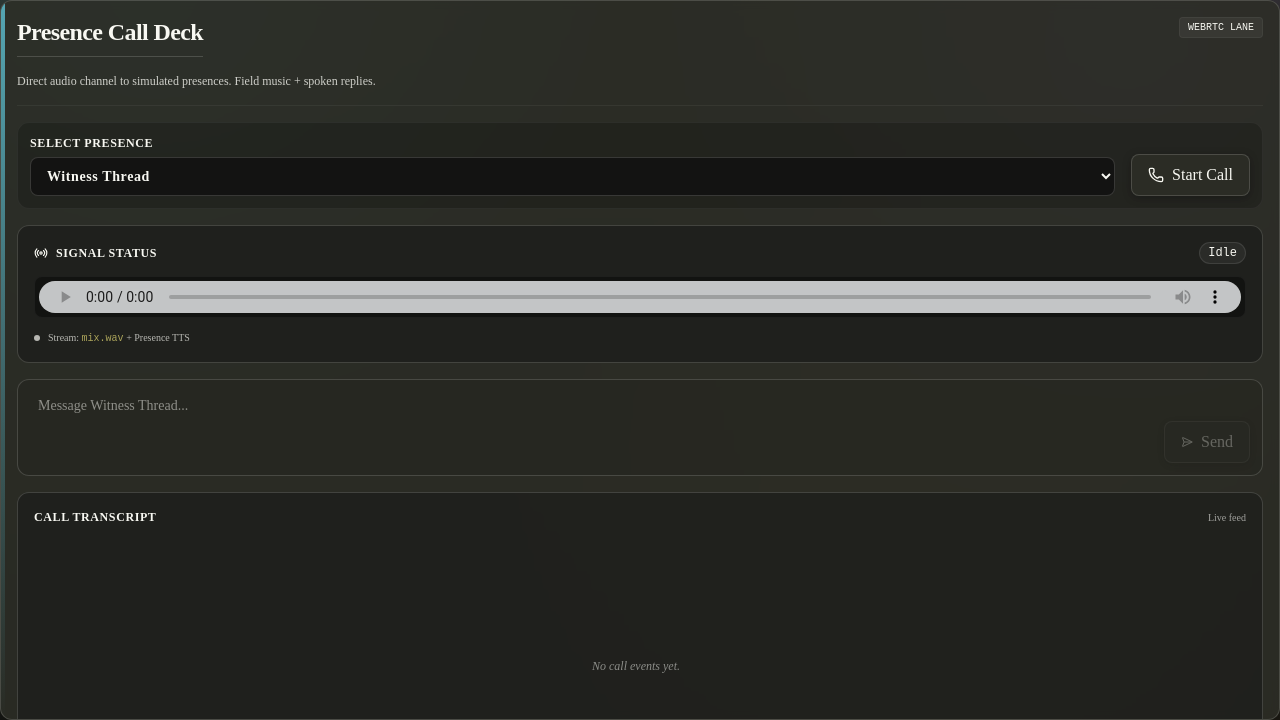
Test: PresenceCallDeck › uses fallback presences and sends transcript messages
Type "hello from ui" into the text box with placeholder "Message Witness Thread..." at (640, 424), box 22,384 -> 1258,464
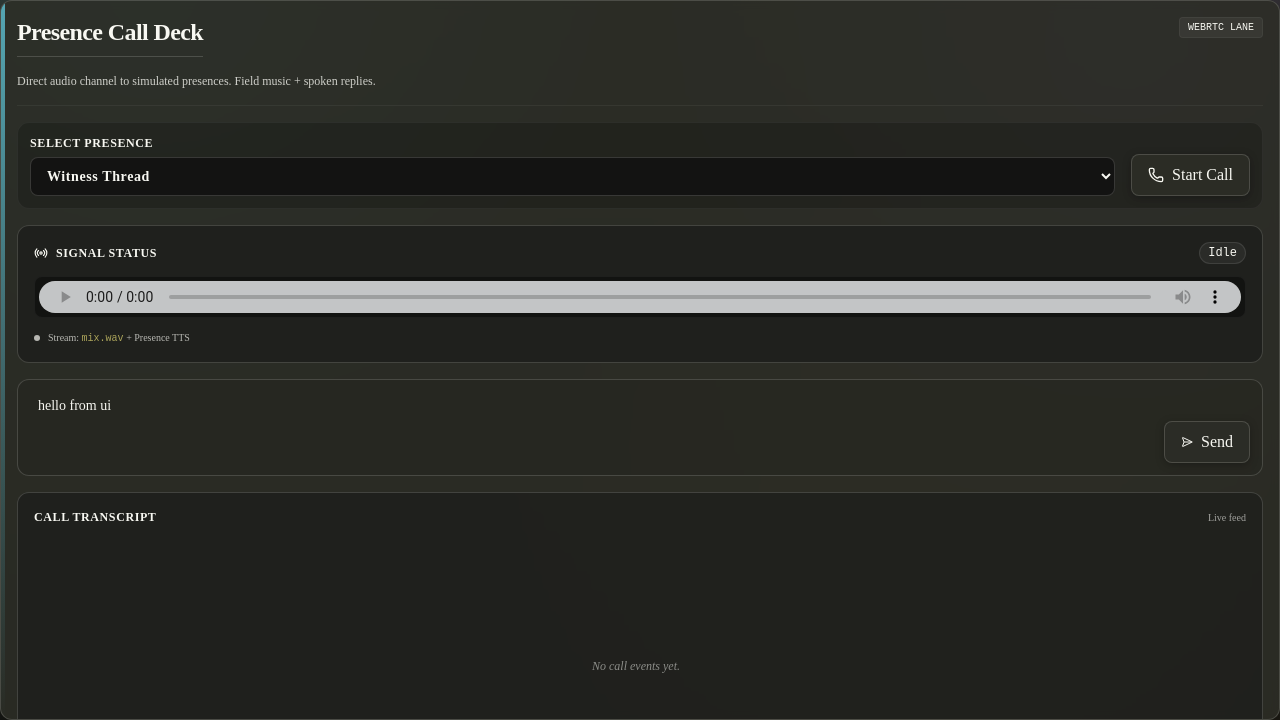
Click the button "Send" at (1207, 442), box 1164,421 -> 1250,463
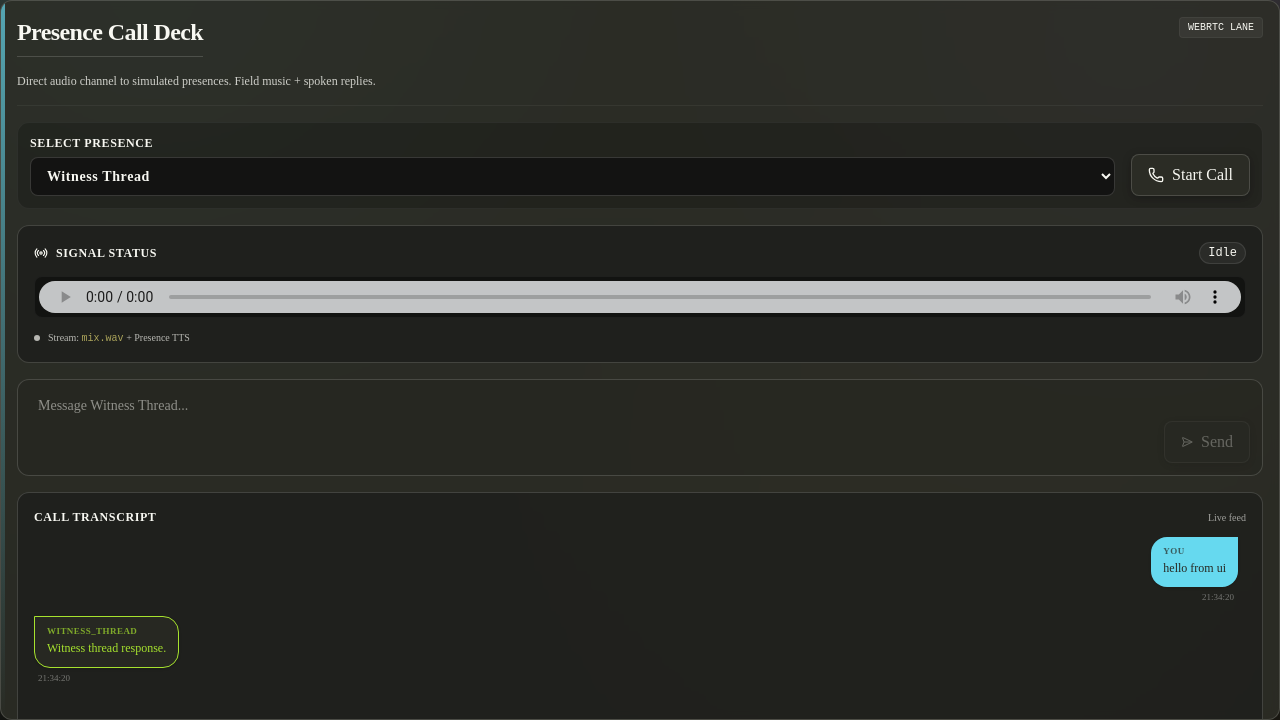
Expected: the text "hello from ui" is shown, 1163,559 -> 1226,579
Expected: the text "Witness thread response." is shown, 47,639 -> 166,659
